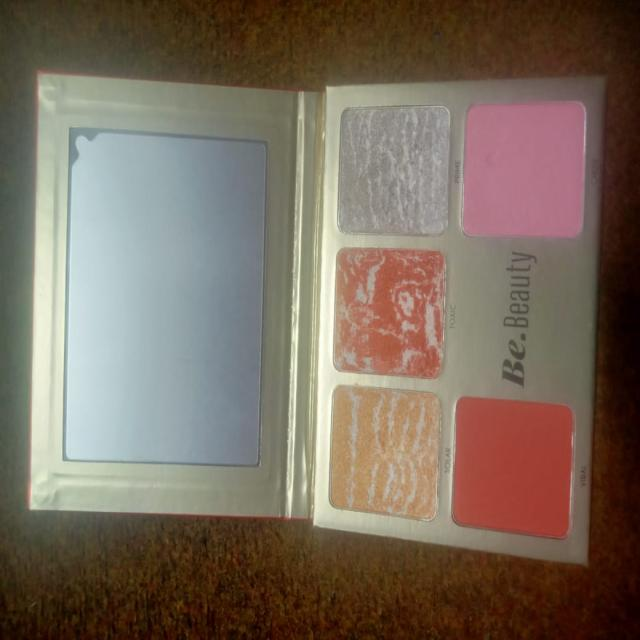eye shade: (332, 111, 596, 236), (454, 391, 575, 550), (330, 248, 448, 388), (336, 387, 443, 511)
